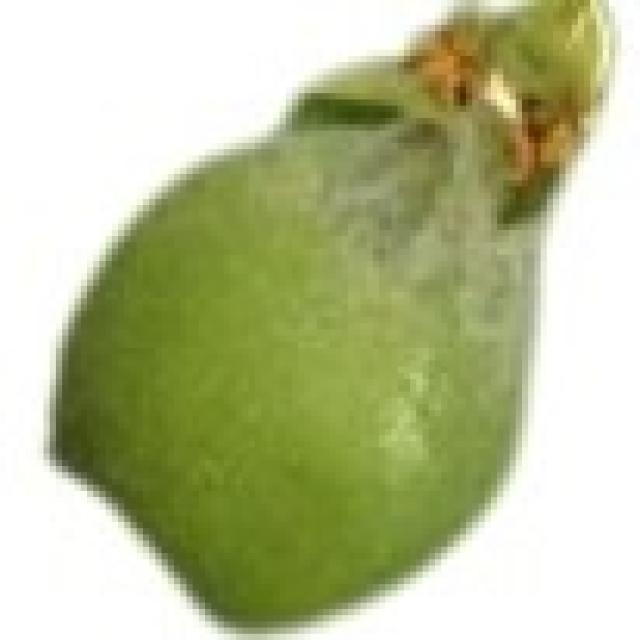20-_ripeness: (56, 0, 609, 628)
